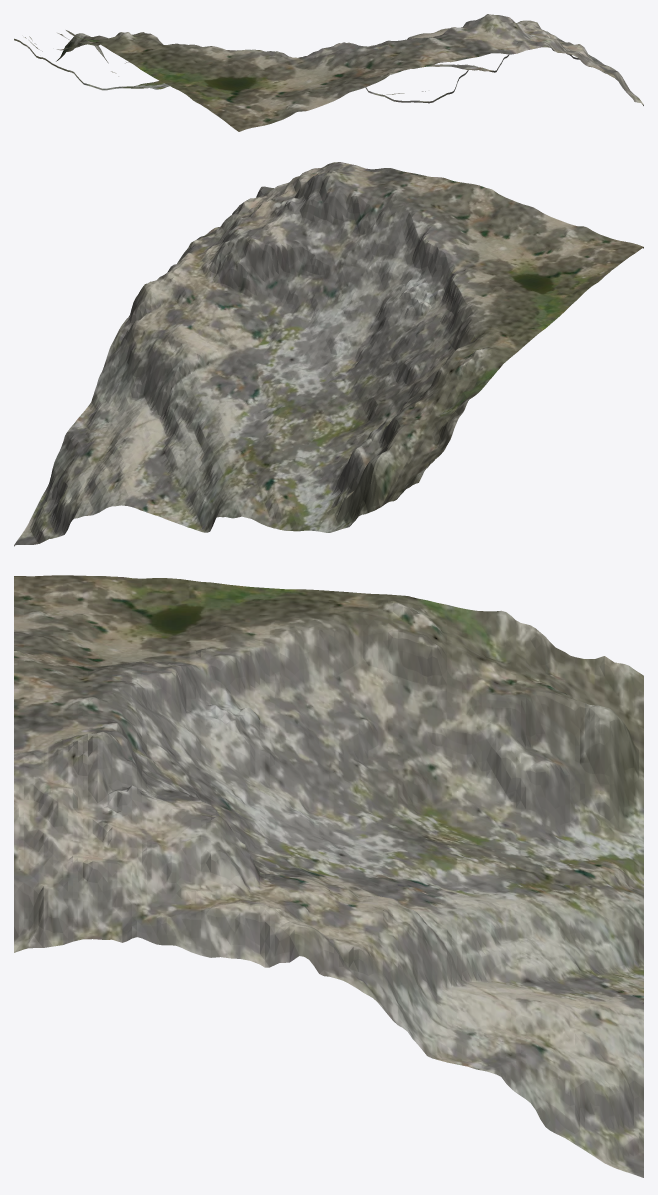
3 renders of one model, top to bottom at view 1: azimuth 30°, elevation 25°; view 2: azimuth 150°, elevation 25°; view 3: azimuth 270°, elevation 25°, orthographic. The views are drawn at different scales.
Size of the model in its own units: 250 by 154 by 241.
Materials: 1 (1 with a texture image).
